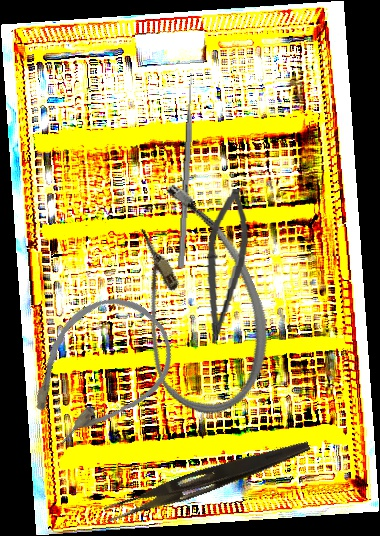Cannula: (92, 170, 295, 429), (2, 275, 192, 467)
Dressing Forceps: (103, 429, 312, 531)
Micro Scissor: (199, 187, 254, 345)
Pusher: (177, 72, 196, 269)
